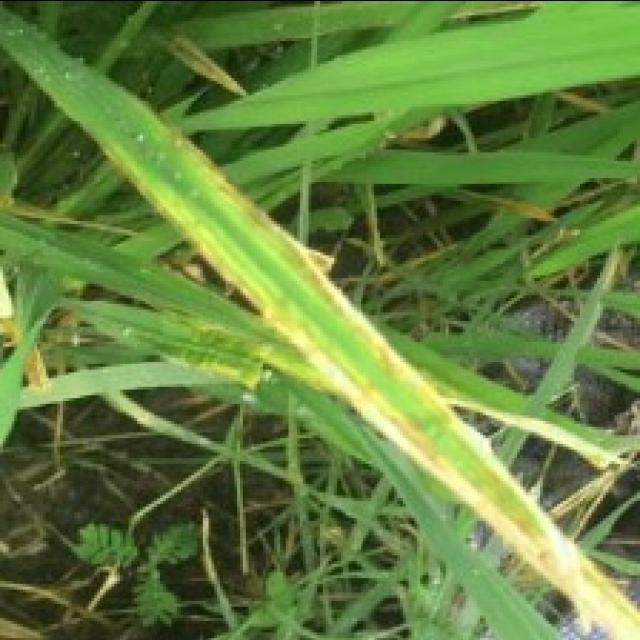Unhealthy: (106, 127, 640, 640), (442, 396, 640, 543), (0, 191, 140, 234), (176, 36, 248, 93), (258, 345, 340, 393), (183, 357, 263, 392), (1, 582, 70, 605), (0, 269, 19, 347), (0, 618, 66, 640), (562, 181, 620, 205), (162, 259, 210, 286), (454, 0, 540, 15), (394, 117, 449, 139), (24, 340, 49, 388), (508, 197, 555, 220), (561, 91, 613, 110), (196, 322, 231, 335), (56, 403, 64, 459)
